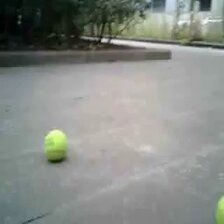tennis: (43, 129, 66, 157)
